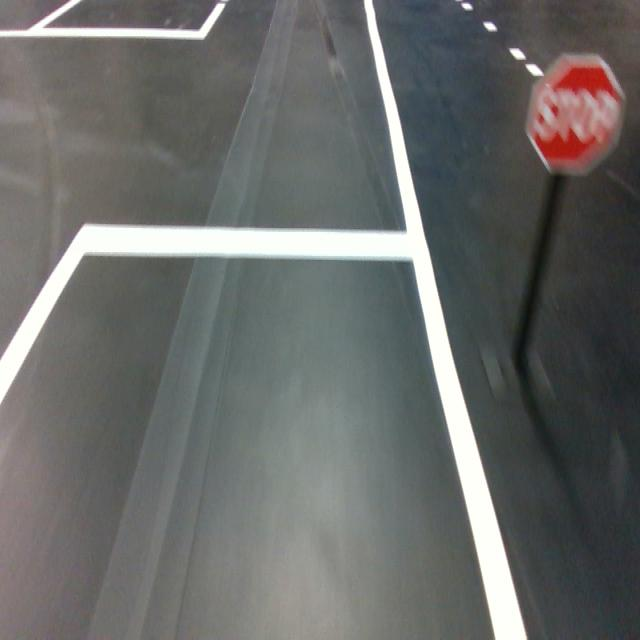stop-sign: (523, 52, 628, 178)
